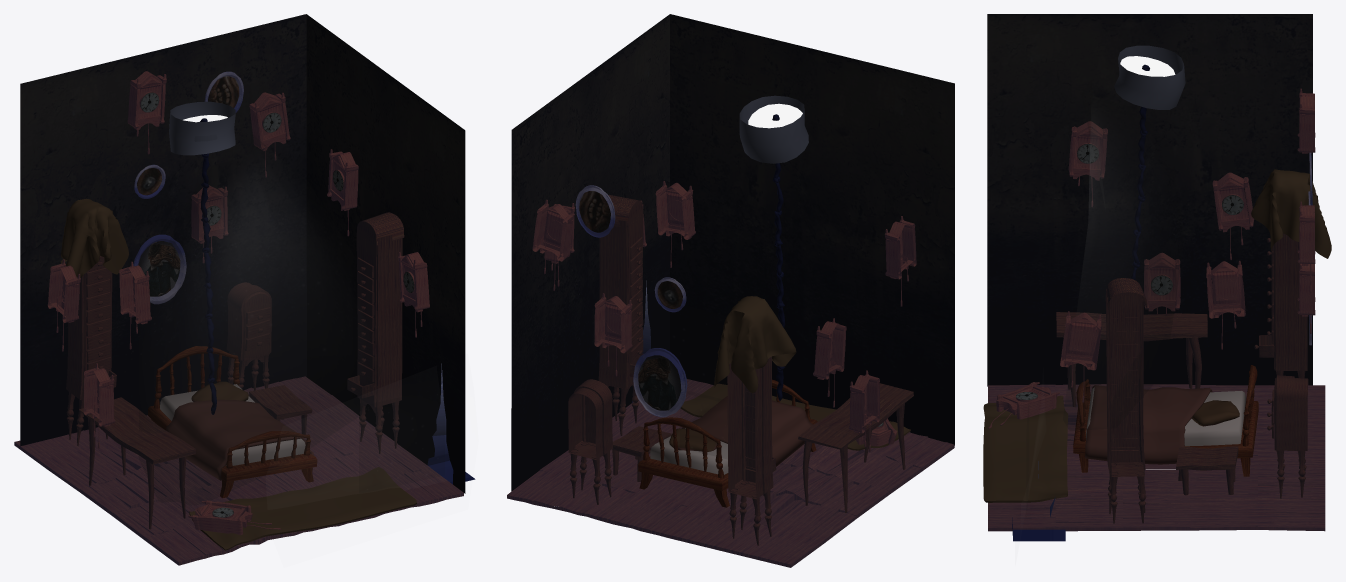
3 views of the same model, side by side, from view 1: azimuth 30°, elevation 25°; view 2: azimuth 150°, elevation 25°; view 3: azimuth 270°, elevation 25° (orthographic). The views are drawn at different scales.
Parts seen in each view (by area): view 1: Plane.001, Plane.006, Plane, Plane.002, tapis, Matelas, pendule.001, pendule.003, Bed, Plane.004, Plane.007, pendule.002 (+6 smaller); view 2: Plane.001, Plane, Plane.002, tapis, pendule.001, pendule.003, Matelas, Plane.007, Bed, Plane.004, Circle, Circle.001 (+4 smaller); view 3: Plane.001, Plane.006, Plane, Plane.002, tapis, Matelas, pendule.003, pendule.002, Plane.007, Plane.004, pendule.001, Bed (+3 smaller).
Part boxes in pixels (x1,y1,x2,y2): Plane.001: (20,14,475,493); Plane.006: (139,134,381,504); Plane: (14,376,463,565); Plane.002: (66,212,404,453); tapis: (60,198,416,550); Matelas: (160,381,314,480); pendule.001: (127,71,290,263); pendule.003: (47,259,151,448); Bed: (148,346,317,498); Plane.004: (79,397,196,529); Plane.007: (169,101,235,155); pendule.002: (327,149,429,337); Plane.001: (511,14,954,491); Plane: (507,379,954,567); Plane.002: (568,194,776,545); tapis: (680,296,910,450); pendule.001: (532,181,695,376); pendule.003: (813,216,916,451); Matelas: (650,396,812,474); Plane.007: (739,95,808,163); Bed: (638,379,817,507); Plane.004: (798,383,913,512); Circle: (633,348,687,417); Circle.001: (575,185,615,237); Plane.001: (987,14,1312,541); Plane.006: (1063,81,1183,430); Plane: (988,384,1325,531); Plane.002: (1105,233,1308,523); tapis: (983,169,1331,502); Matelas: (1085,385,1245,464); pendule.003: (1068,121,1254,313); pendule.002: (1060,260,1245,402); Plane.007: (1114,45,1185,109); Plane.004: (1056,312,1207,406); pendule.001: (1297,88,1315,333); Bed: (1073,365,1258,476).
Size of the model in its own units: 995 by 1233 by 917.
